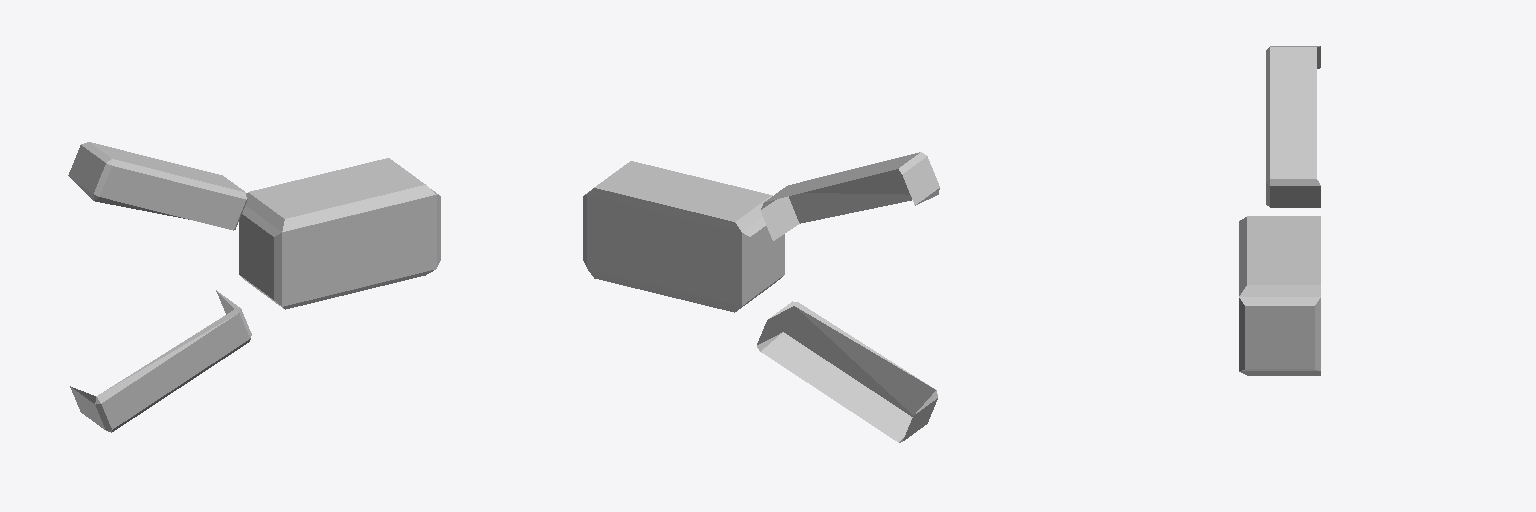
File: drone2head.obj
3 renders of one model, left to right at view 1: azimuth 30°, elevation 25°; view 2: azimuth 150°, elevation 25°; view 3: azimuth 270°, elevation 25°, orthographic.
Parts seen in each view (by area): view 1: Object.2, Object.3, Object.1; view 2: Object.2, Object.1, Object.3; view 3: Object.2, Object.3.
Boxes of the visible parts, <box> form: Object.2: <box>239,158,440,309</box>; Object.3: <box>68,142,247,230</box>; Object.1: <box>70,290,251,432</box>; Object.2: <box>583,161,784,312</box>; Object.1: <box>757,301,937,442</box>; Object.3: <box>760,152,939,240</box>; Object.2: <box>1239,216,1320,375</box>; Object.3: <box>1266,46,1320,207</box>.
Bounding box in the file's own units: 37.63 × 29.41 × 8.